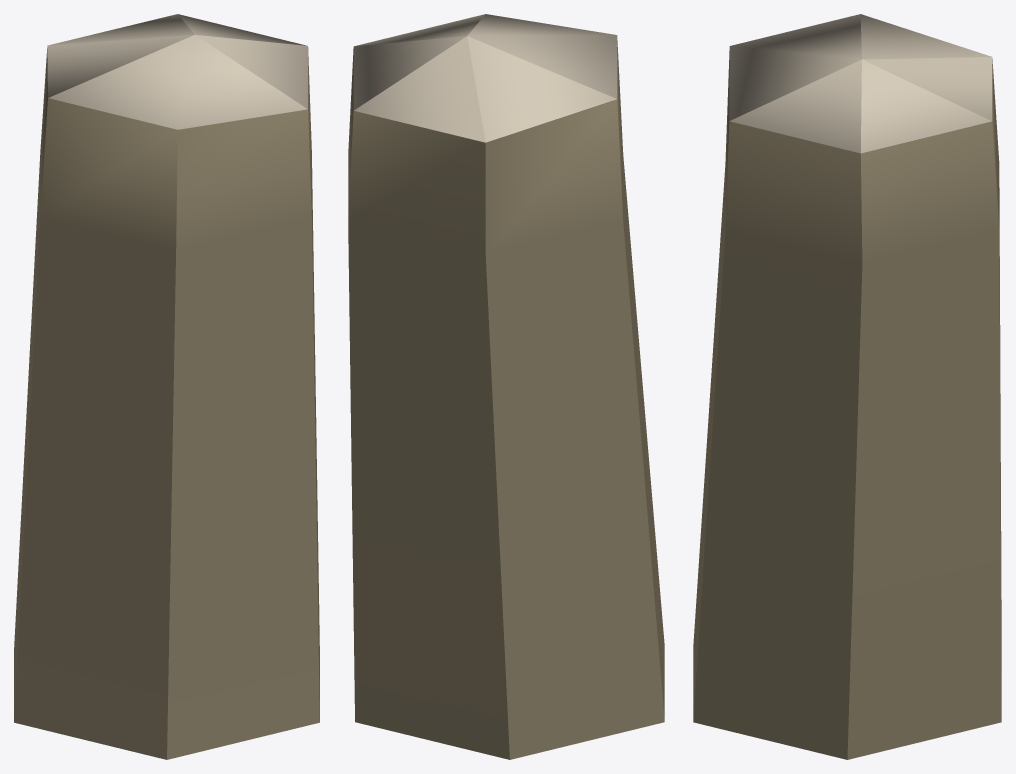
Rendered from skinny tree stump.fbx.
3 views of the same model, side by side, from view 1: azimuth 30°, elevation 25°; view 2: azimuth 150°, elevation 25°; view 3: azimuth 270°, elevation 25° (orthographic).
Parts seen in each view (by area): view 1: polySurface1; view 2: polySurface1; view 3: polySurface1.
Part boxes in pixels (x1=…): polySurface1: x1=14, y1=14, x2=319, y2=759; polySurface1: x1=348, y1=14, x2=664, y2=759; polySurface1: x1=693, y1=14, x2=1001, y2=759.
Size of the model in its own units: 20.15 by 40.1 by 17.45.
